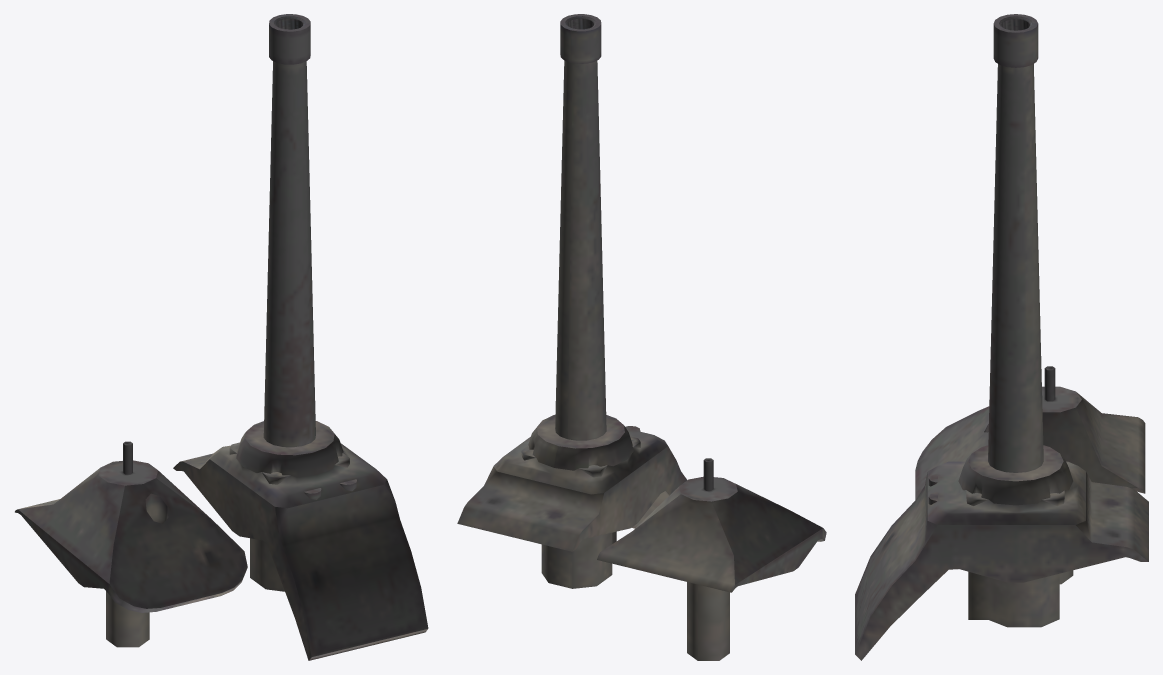
Rendered from Gun_01.glb.
3 views of the same model, side by side, from view 1: azimuth 30°, elevation 25°; view 2: azimuth 150°, elevation 25°; view 3: azimuth 270°, elevation 25° (orthographic). The views are drawn at different scales.
Parts seen in each view (by area): view 1: set_0_group_0; view 2: set_0_group_0; view 3: set_0_group_0.
Boxes of the visible parts, x1,y1,x2,y2 form: set_0_group_0: (15, 14, 428, 660); set_0_group_0: (457, 14, 826, 660); set_0_group_0: (855, 14, 1148, 660).
Bounding box in the file's own units: 0.5584 × 1.14 × 0.4845.
Materials: 1 (1 with a texture image).
